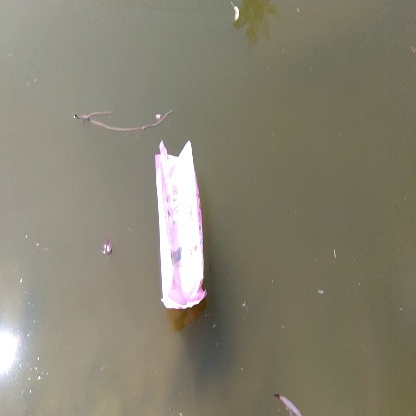plastic-bag: (147, 141, 219, 317)
